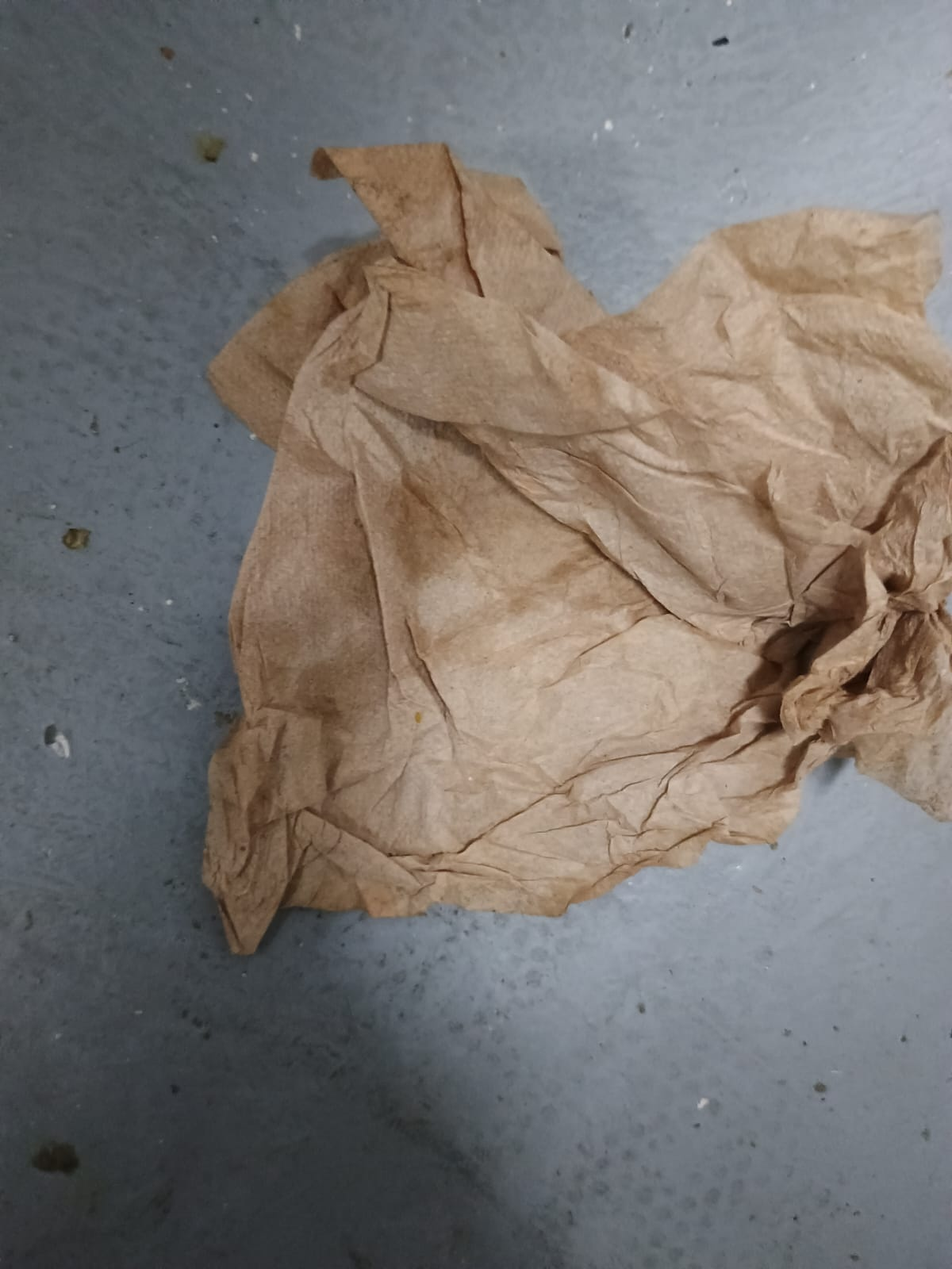Ordinario: (188, 138, 952, 959)
